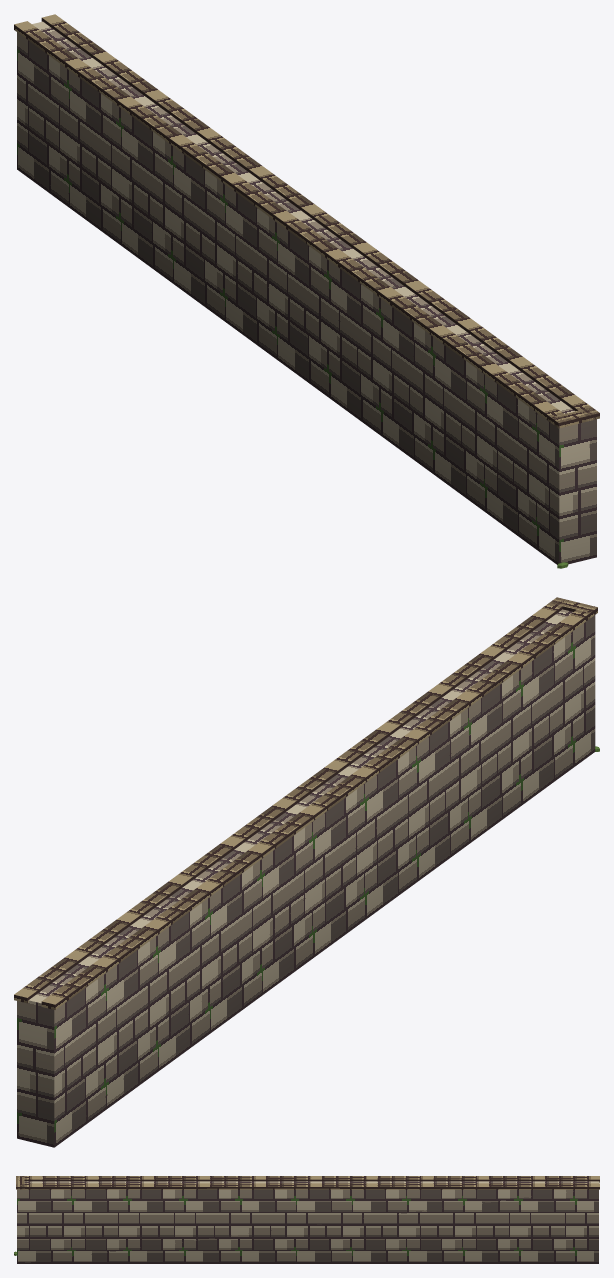
File: scene_divider.glb
3 renders of one model, top to bottom at view 1: azimuth 30°, elevation 25°; view 2: azimuth 150°, elevation 25°; view 3: azimuth 270°, elevation 25°, orthographic. The views are drawn at different scales.
Parts seen in each view (by area): view 1: scene_divider; view 2: scene_divider; view 3: scene_divider.
Boxes of the visible parts, box(x1,y1,x2,y2) form: scene_divider: box(14, 14, 599, 568); scene_divider: box(14, 597, 599, 1147); scene_divider: box(14, 1176, 599, 1263).
Bounding box in the file's own units: 1.14 × 3.71 × 25.18.
Materials: 2 (1 with a texture image).
